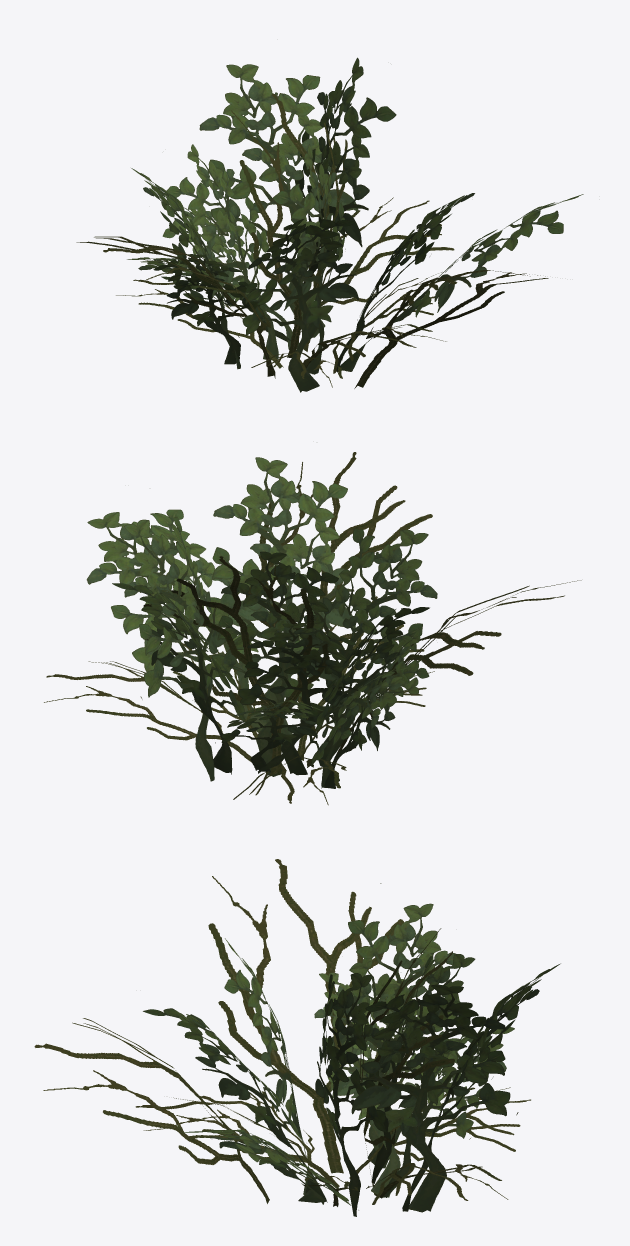
The picture shows the model from 3 angles, top to bottom: view 1: azimuth 30°, elevation 25°; view 2: azimuth 150°, elevation 25°; view 3: azimuth 270°, elevation 25°; orthographic projection. The views are drawn at different scales.
Visible parts, largest first — view 1: plants_bush_b-0-branch1; view 2: plants_bush_b-0-branch1; view 3: plants_bush_b-0-branch1.
Part boxes in pixels (left/top/right/bottom): plants_bush_b-0-branch1: left=76, top=57, right=583, bottom=392; plants_bush_b-0-branch1: left=44, top=452, right=581, bottom=805; plants_bush_b-0-branch1: left=34, top=859, right=560, bottom=1216.
Bounding box in the file's own units: 3.08 × 1.49 × 2.7.
Materials: 1 (1 with a texture image).
